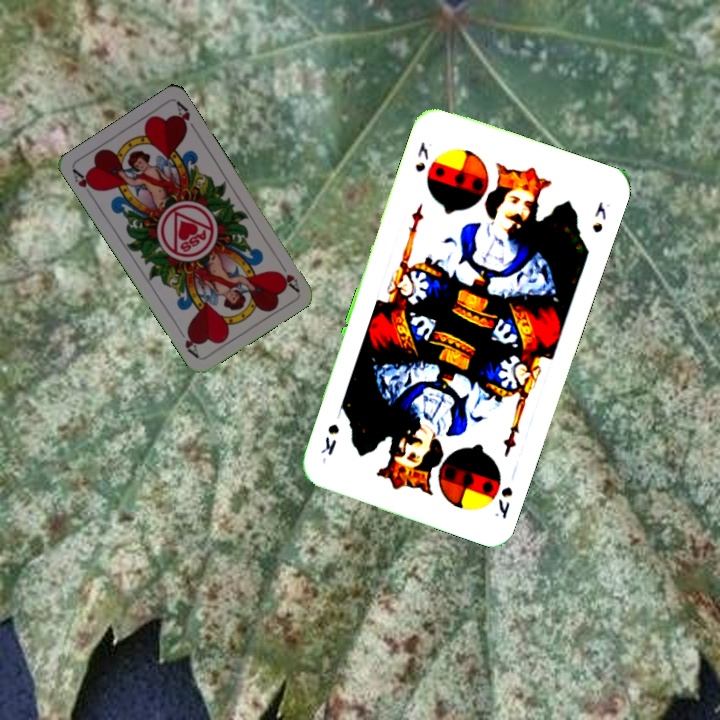HA: (274, 257, 302, 294), (69, 165, 100, 194)
SK: (490, 482, 516, 522), (411, 138, 432, 175)
